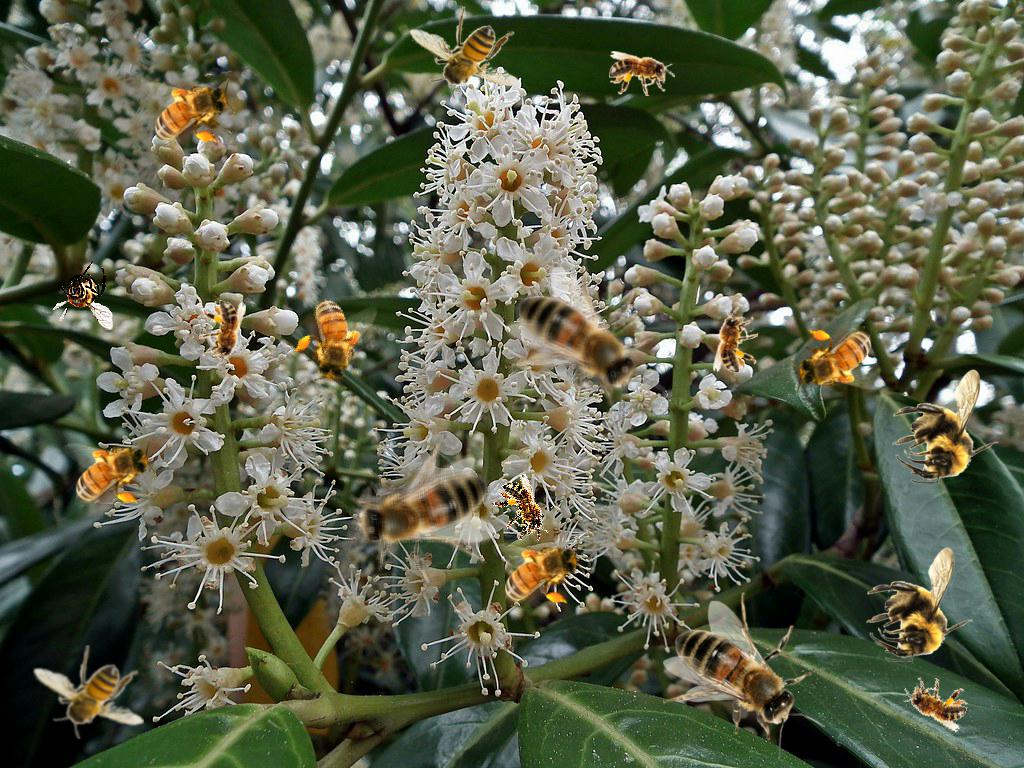Bee: (302, 400, 533, 630), (663, 592, 825, 759), (505, 257, 667, 424), (866, 547, 973, 662), (892, 369, 999, 484), (282, 281, 384, 396), (33, 645, 144, 739), (409, 6, 520, 100), (492, 539, 585, 607), (142, 78, 235, 146), (63, 439, 156, 507), (791, 326, 884, 394), (486, 471, 560, 552), (896, 669, 974, 734), (52, 260, 113, 330), (197, 299, 247, 368), (713, 307, 758, 373), (609, 51, 675, 96)
